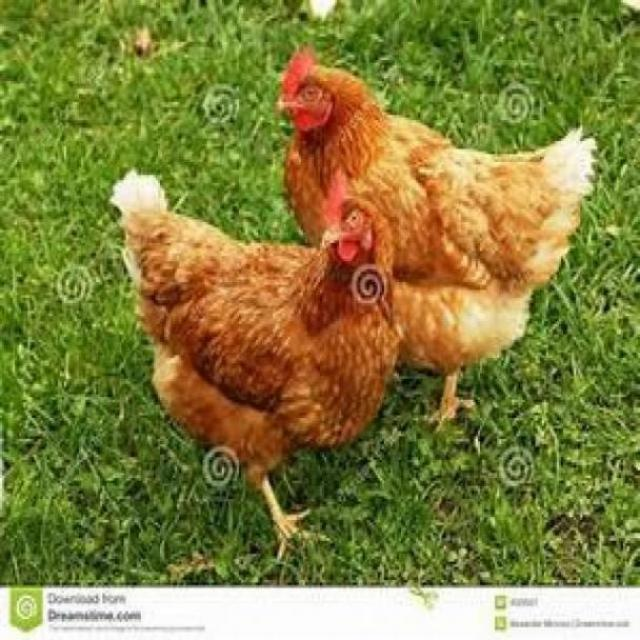Chicken: (275, 47, 600, 431), (109, 167, 405, 562)
